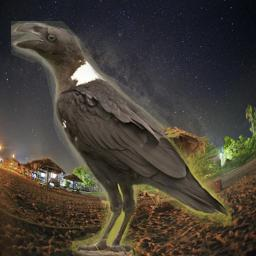Crow: (11, 21, 232, 256)
